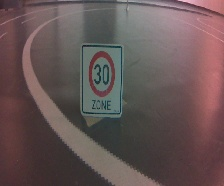zone 30 sign: (80, 42, 123, 118)
